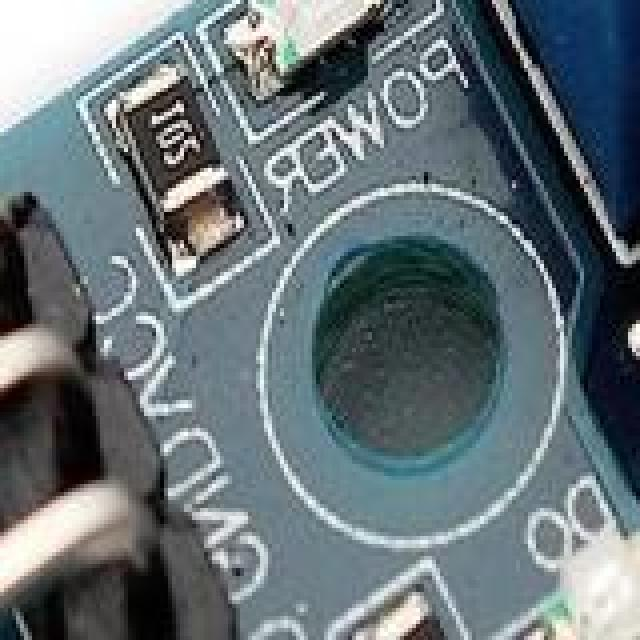LED: (552, 504, 640, 640), (252, 0, 380, 60)
connector: (0, 172, 240, 640)
resistor: (116, 60, 252, 264), (356, 560, 488, 640)
